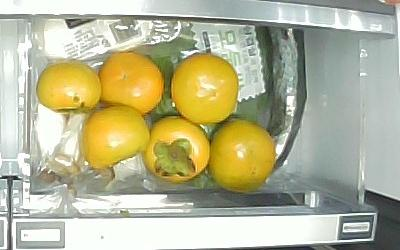persimmon: (210, 120, 277, 195), (171, 53, 238, 125), (144, 117, 209, 183), (82, 107, 150, 170), (99, 52, 164, 114), (36, 61, 102, 114)
